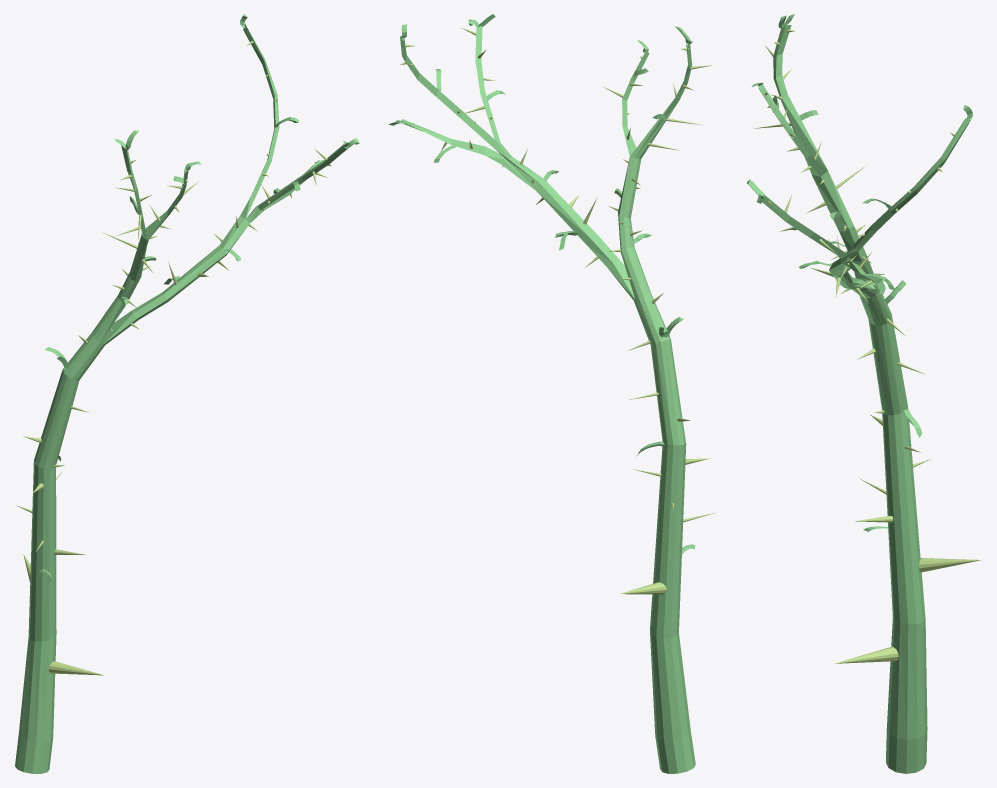
The model's file is thorny-vine-branching-tawpshelf_0ch9VWi-_AR.glb.
3 views of the same model, side by side, from view 1: azimuth 30°, elevation 25°; view 2: azimuth 150°, elevation 25°; view 3: azimuth 270°, elevation 25° (orthographic). The views are drawn at different scales.
Visible parts, largest first — view 1: group2010779885; view 2: group2010779885; view 3: group2010779885, group2038800451, group420543714.
Part boxes in pixels (x1,y1,x2,y2): group2010779885: (15,24,348,773); group2010779885: (400,26,695,773); group2010779885: (758,25,970,773); group2038800451: (835,646,898,663); group420543714: (919,558,981,572).
Size of the model in its own units: 2.37 by 5.02 by 1.35.
